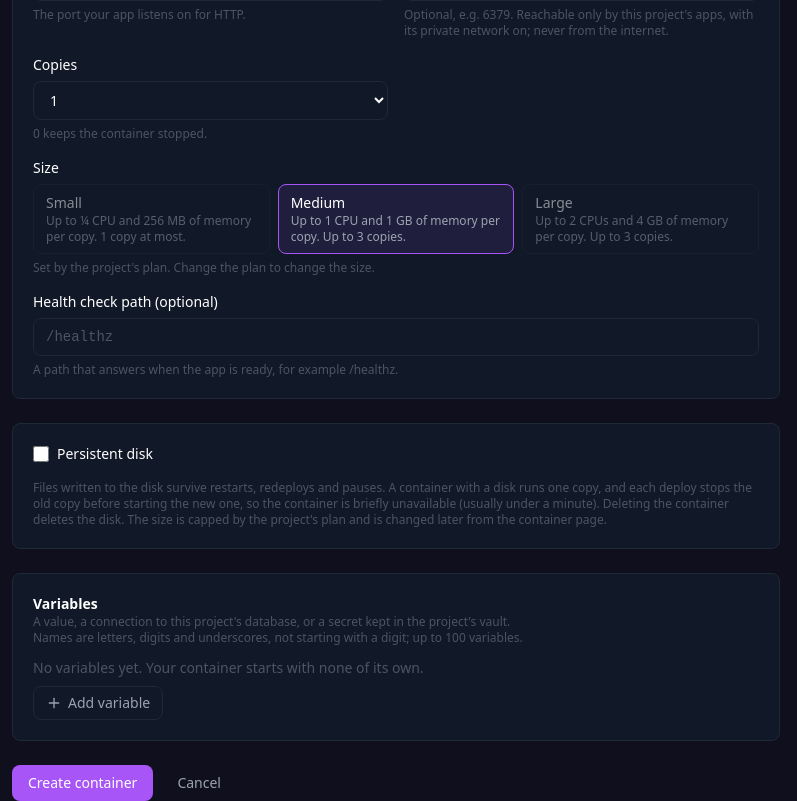
Test: AppForm › asks for an image before anything else can be sent
(page scrolled)
Click the button with test id "app-submit".
click(83, 783)  # box [12,765,153,800]
(page scrolled)
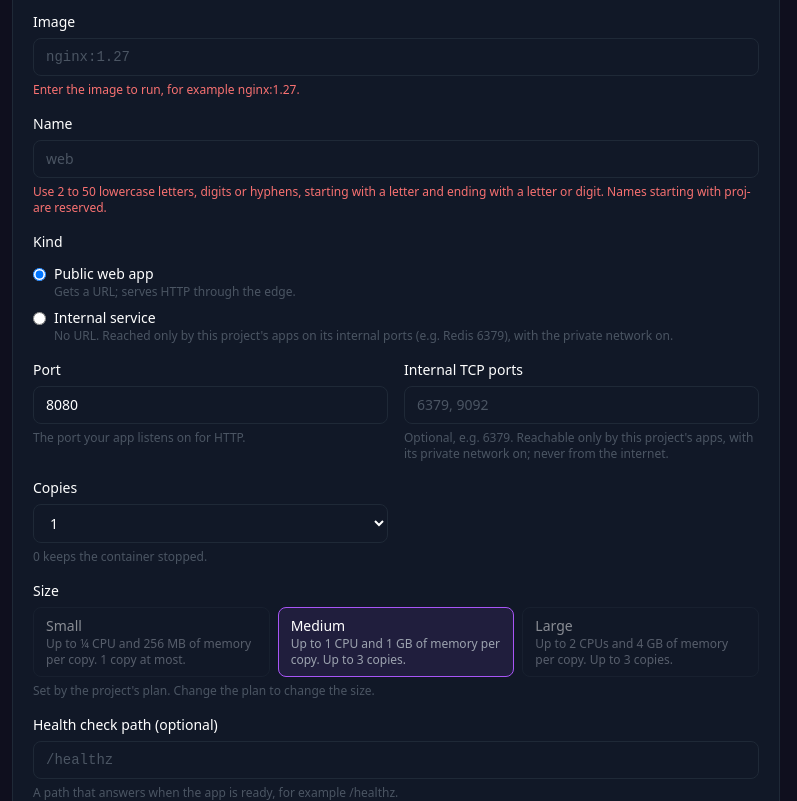
Expected: the text "Enter the image to run, for example nginx:1.27." is shown, [33,81,300,98]
